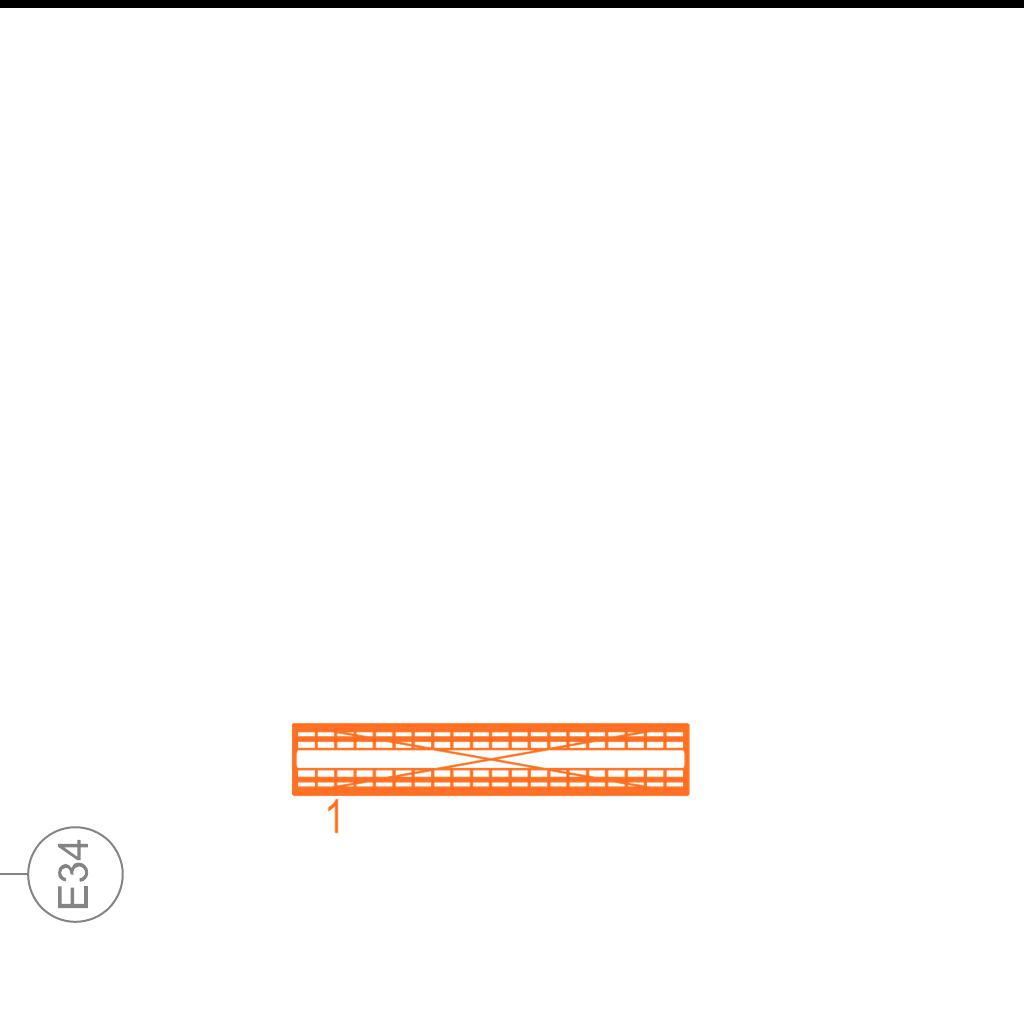Buero_Pendelleuchten_LED: (285, 713, 698, 843)
